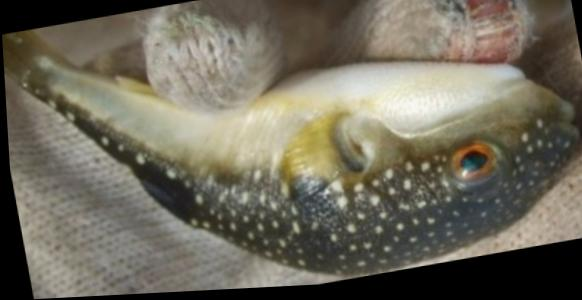fish: (2, 32, 579, 280)
